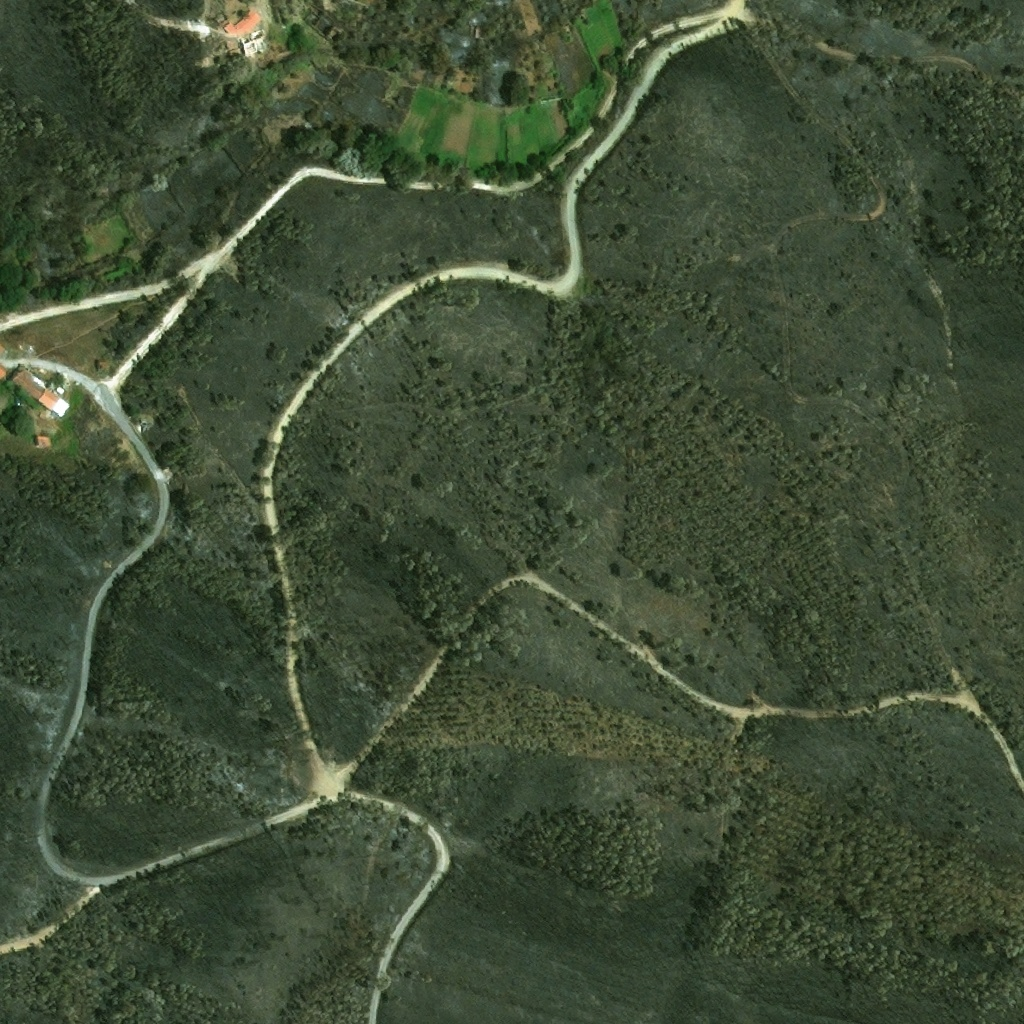0 no-damage: (11, 369, 61, 414), (34, 438, 48, 449)
3 destroyed: (229, 29, 266, 56), (474, 27, 488, 42), (161, 465, 172, 481), (139, 425, 149, 435), (134, 424, 140, 435)
4 un-classified: (0, 362, 7, 380), (0, 345, 4, 360)
